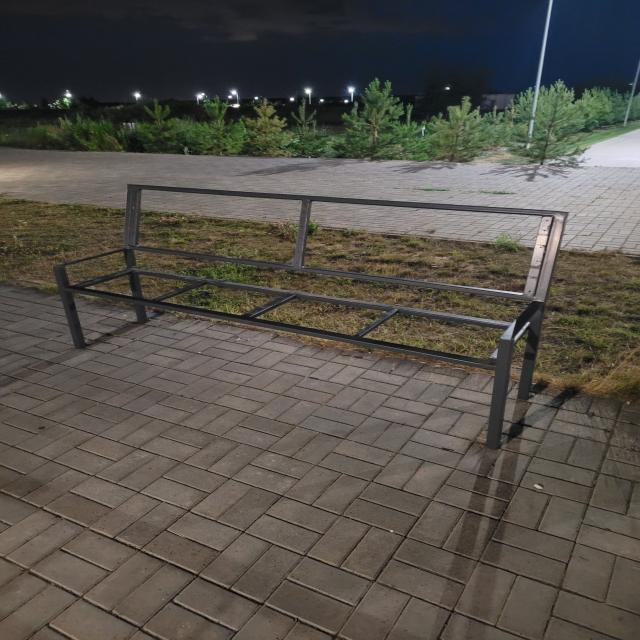Bench: (53, 185, 569, 450)
